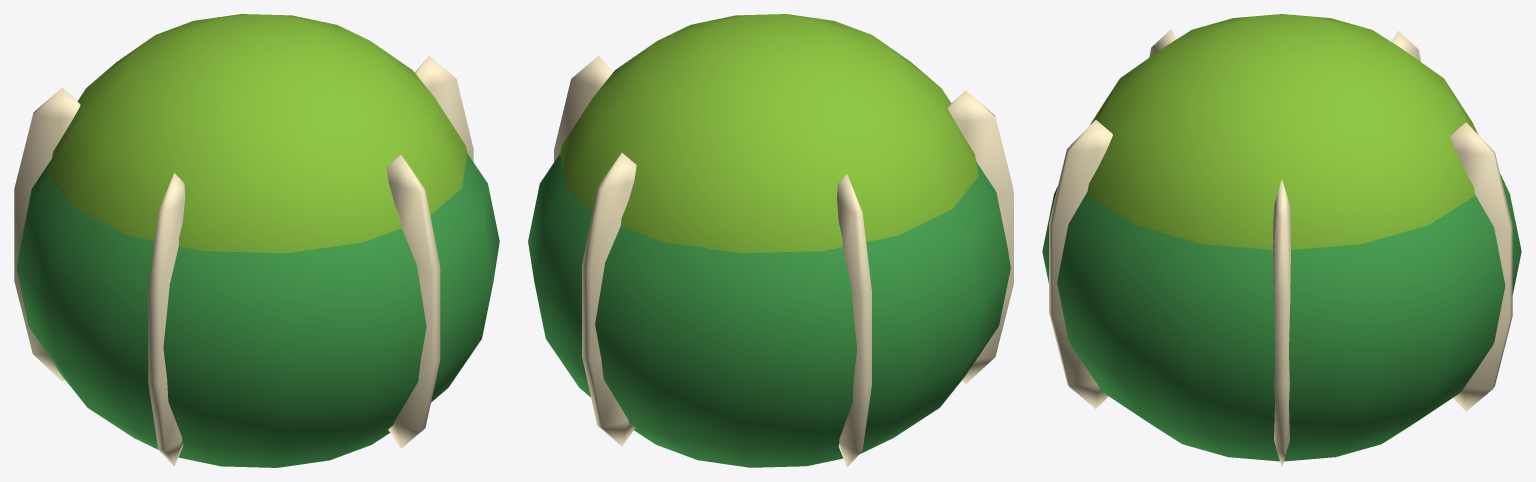
File: cabbage.glb
3 renders of one model, left to right at view 1: azimuth 30°, elevation 25°; view 2: azimuth 150°, elevation 25°; view 3: azimuth 270°, elevation 25°, orthographic.
Visible parts, largest first — view 1: item; view 2: item; view 3: item.
Part boxes in pixels (bbox=[...]): item: bbox=[14, 14, 499, 467]; item: bbox=[528, 14, 1013, 467]; item: bbox=[1042, 14, 1521, 466].
Size of the model in its own units: 0.4212 by 0.39 by 0.42.
1 material, 1 textured.
